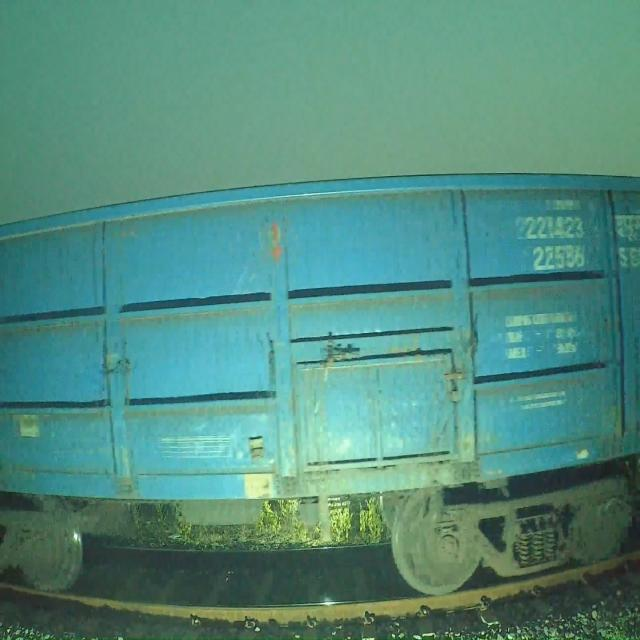WAgon-uic: (0, 171, 639, 597)
uic: (519, 214, 592, 272)
